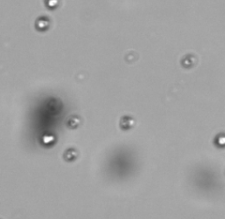Dead Cell: (181, 54, 197, 67), (47, 99, 61, 113), (121, 116, 134, 129), (68, 115, 80, 128), (64, 149, 75, 160)
Living Cell: (39, 132, 56, 144), (36, 17, 49, 29), (46, 1, 59, 8)
